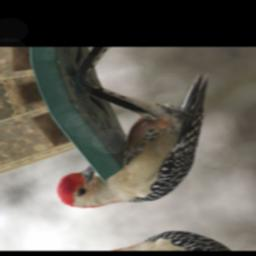Woodpecker: (24, 68, 255, 220)
